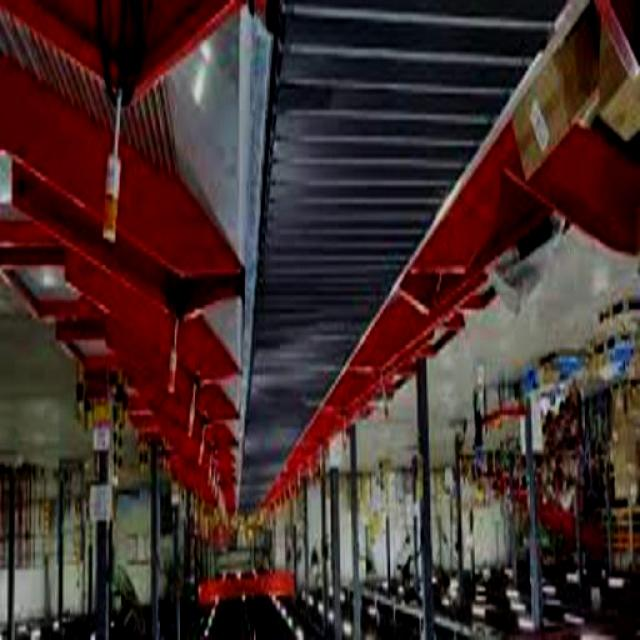conveyor: (238, 0, 591, 522)
